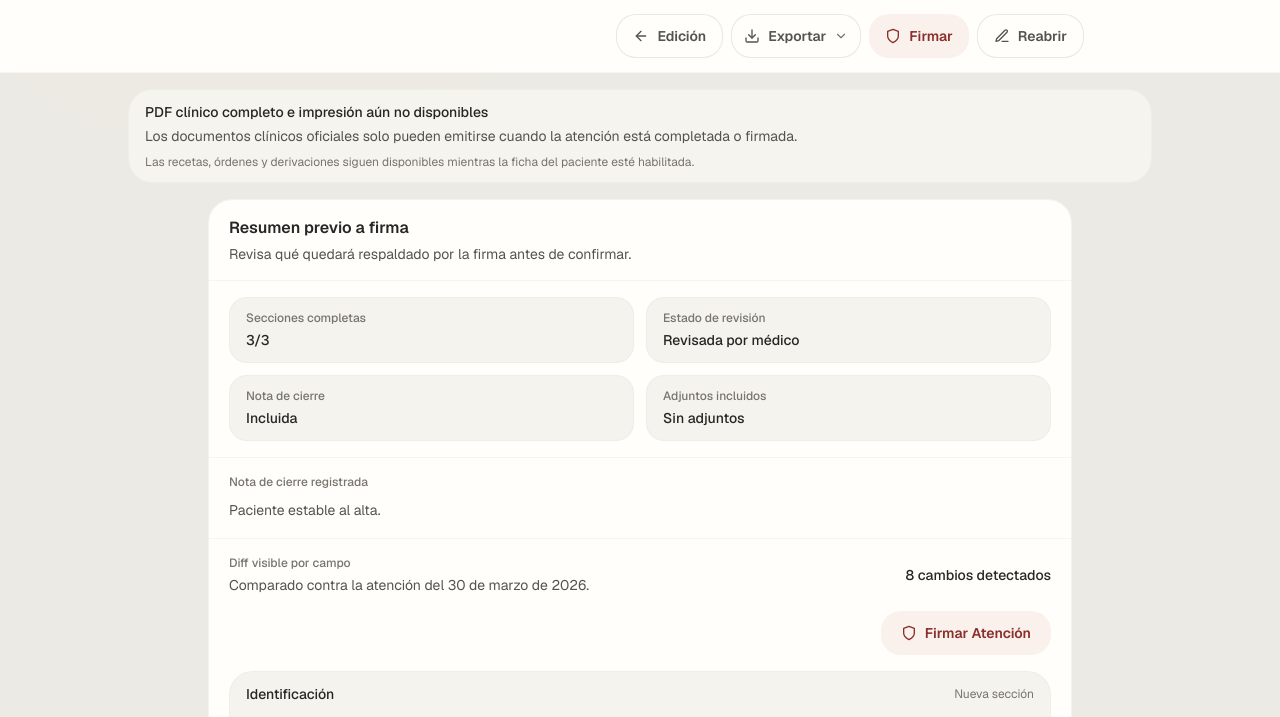
Scenario: FichaClinicaPage clinical-output block › disables official outputs when the encounter is not yet completed even if the patient is verified
Click the button with aria-label "Exportar documentos".
click(796, 36)  # box [731, 14, 861, 58]
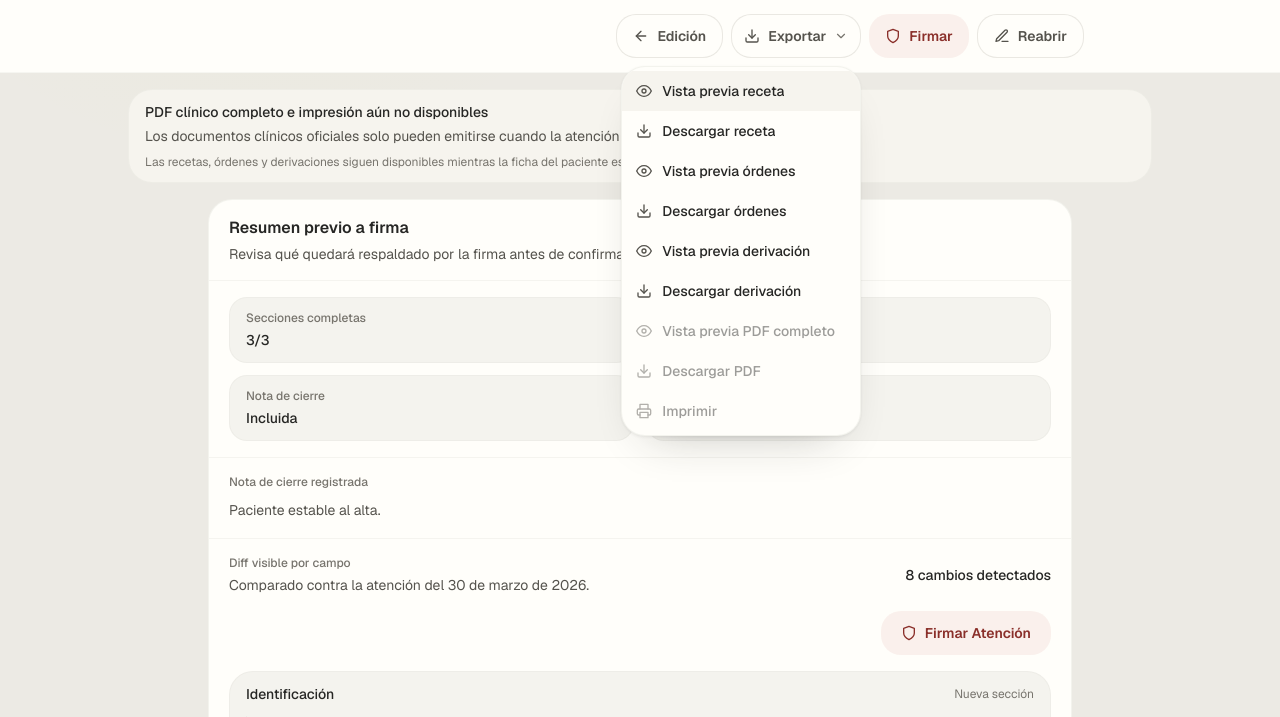
Check: the menu item "Vista previa receta" is enabled, box [622, 71, 860, 111]
Check: the menu item "Descargar receta" is enabled, box [622, 111, 860, 151]
Check: the menu item "Vista previa órdenes" is enabled, box [622, 151, 860, 191]
